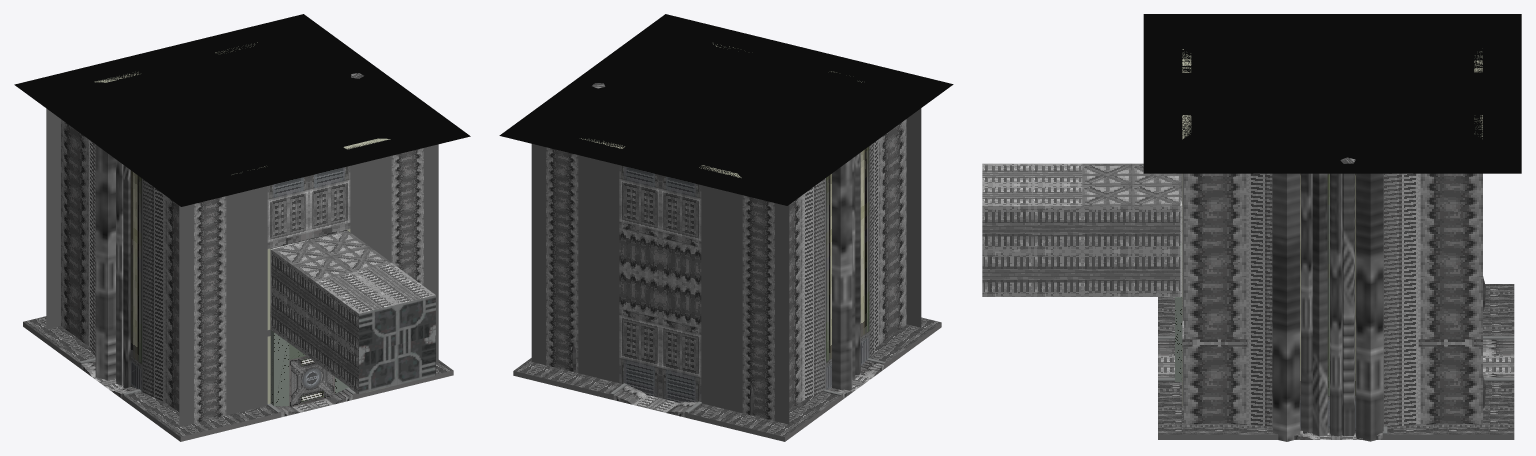
File: 0-1_INTO_THE_FIRE.fbx
3 views of the same model, side by side, from view 1: azimuth 30°, elevation 25°; view 2: azimuth 150°, elevation 25°; view 3: azimuth 270°, elevation 25° (orthographic). The views are drawn at different scales.
Visible parts, largest first — view 1: Roof, FrontWall, Glass.001, LeftWall, Floor, BigPipe_03, BackWall, Door, SmallPipe_05, SmallPipe_06, DoorFrameSides, WallExtrusion; view 2: BackWall, Roof, LeftWall, Floor, BigPipe_03, FrontWall, SmallPipe_06, SmallPipe_05, Stairs01; view 3: Roof, RightWall, Glass.001, Floor, BigPipe_01, BigPipe_02, SmallPipe_03, SmallPipe_01, SmallPipe_02, SmallPipe_04, Beams, Stairs01 (+2 smaller).
Boxes of the visible parts, left/top/right/bottom form: Roof: left=14, top=14, right=470, bottom=206; FrontWall: left=179, top=144, right=438, bottom=426; Glass.001: left=270, top=230, right=435, bottom=394; LeftWall: left=61, top=119, right=179, bottom=412; Floor: left=23, top=316, right=453, bottom=441; BigPipe_03: left=95, top=145, right=115, bottom=380; BackWall: left=46, top=108, right=290, bottom=329; Door: left=289, top=356, right=334, bottom=406; SmallPipe_05: left=116, top=159, right=123, bottom=384; SmallPipe_06: left=123, top=165, right=130, bottom=387; DoorFrameSides: left=270, top=330, right=349, bottom=406; WallExtrusion: left=94, top=42, right=390, bottom=403; BackWall: left=531, top=144, right=789, bottom=424; Roof: left=499, top=14, right=953, bottom=205; LeftWall: left=789, top=119, right=906, bottom=410; Floor: left=513, top=317, right=941, bottom=441; BigPipe_03: left=832, top=159, right=852, bottom=390; FrontWall: left=906, top=108, right=921, bottom=327; SmallPipe_06: left=855, top=153, right=860, bottom=375; SmallPipe_05: left=852, top=157, right=855, bottom=380; Stairs01: left=613, top=385, right=696, bottom=417; Roof: left=1143, top=14, right=1521, bottom=173; RightWall: left=1184, top=173, right=1482, bottom=433; Glass.001: left=982, top=163, right=1182, bottom=296; Floor: left=1158, top=284, right=1514, bottom=439; BigPipe_01: left=1355, top=173, right=1383, bottom=441; BigPipe_02: left=1272, top=173, right=1300, bottom=441; SmallPipe_03: left=1312, top=173, right=1327, bottom=436; SmallPipe_01: left=1340, top=157, right=1355, bottom=436; SmallPipe_02: left=1330, top=173, right=1342, bottom=436; SmallPipe_04: left=1301, top=173, right=1312, bottom=432; Beams: left=1182, top=321, right=1482, bottom=346; Stairs01: left=1158, top=339, right=1514, bottom=377.
Bounding box in the file's own units: 252 × 201 × 359.
Materials: 21 (19 with a texture image).
